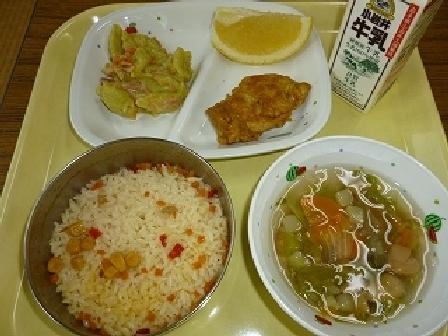Citrus: (205, 1, 313, 60)
Meat: (203, 75, 315, 148)
Milk: (323, 0, 438, 99)
Mixed rice: (25, 136, 229, 330)
Soups: (248, 136, 445, 335)
Spaghetti: (95, 25, 191, 119)
